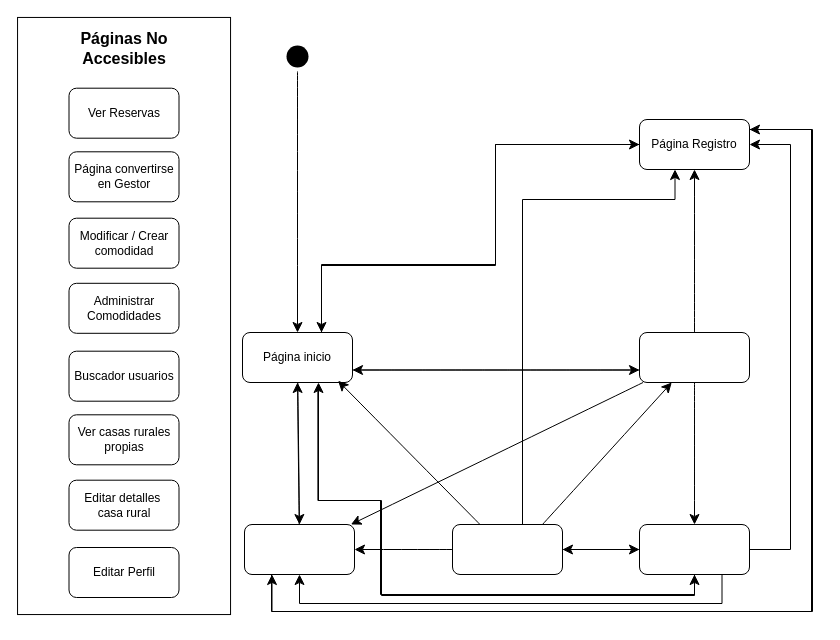
The diagram is 840 pixels wide and 640 high, and some of its shapes have lost their labels. Here are the shapes that lost their labels. From the top down, the box of each, then its label:
(638, 332, 750, 382): Ver Detalles Casa Rural
(244, 524, 354, 574): Página Login
(452, 524, 562, 574): Ver Casas Rurales de otro usuario
(638, 524, 750, 574): Ver perfil otros usuarios
